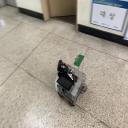cart: (55, 64, 86, 106)
